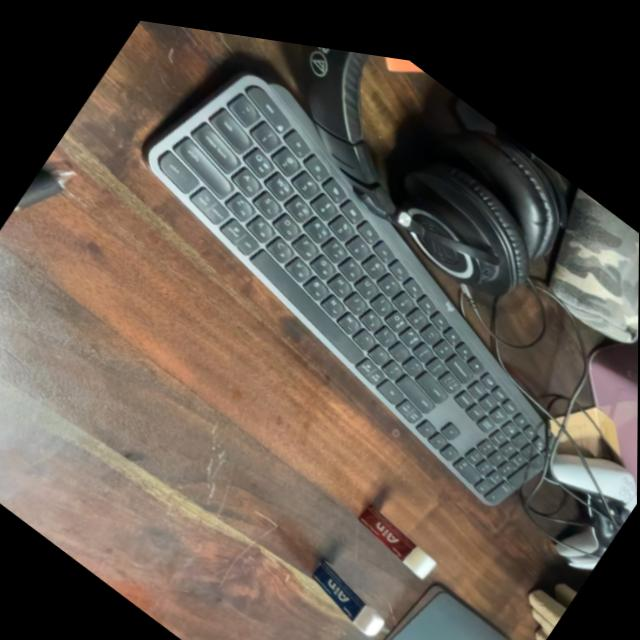blue: (295, 539, 398, 636)
red: (345, 484, 445, 575)
